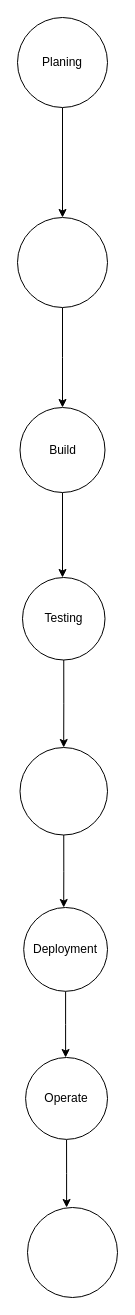
This 135x1315 diagram has some shape labels left out. The centre of each missing label's shape, as x and y in pixels:
Develop: pixel 62 262
Monitor: pixel 72 1252
Release: pixel 63 790
